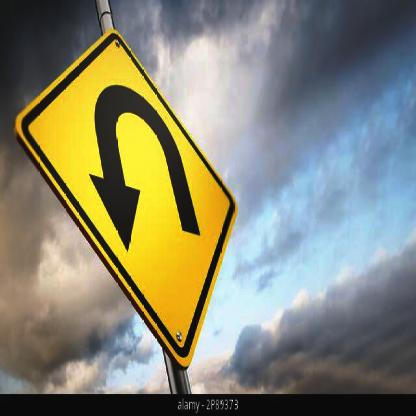U-turn: (18, 34, 239, 364)
